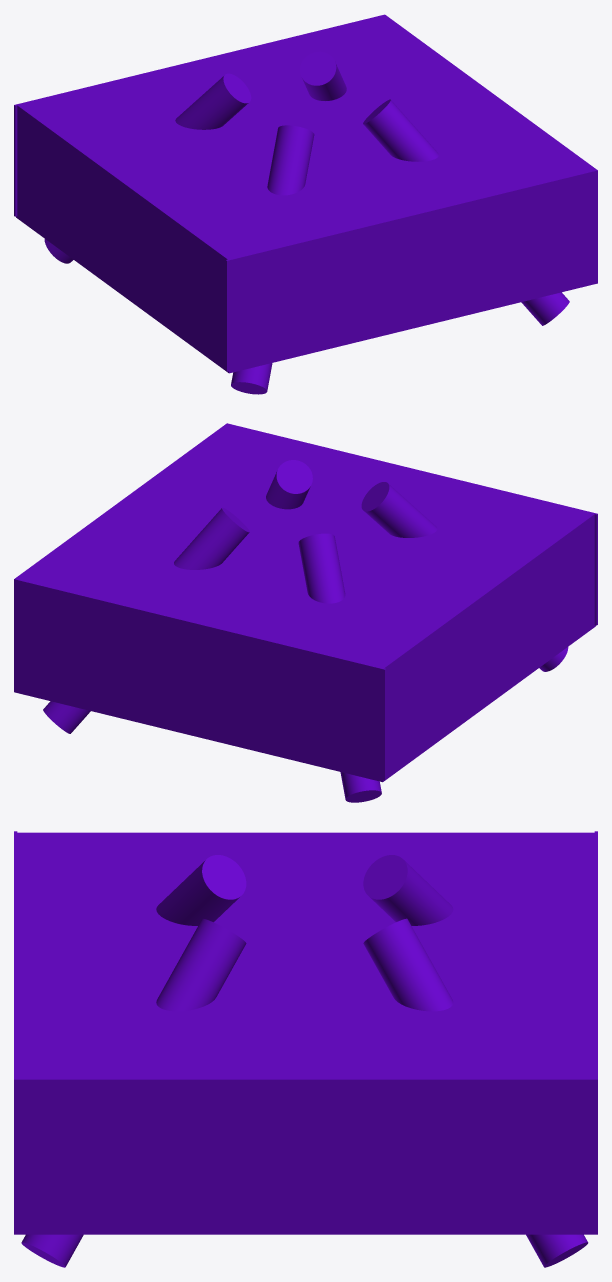
File: expbfa_bfa3.gltf
3 views of the same model, one above another, from view 1: azimuth 30°, elevation 25°; view 2: azimuth 150°, elevation 25°; view 3: azimuth 270°, elevation 25° (orthographic). The views are drawn at different scales.
Parts seen in each view (by area): view 1: Cylinder.002; view 2: Cylinder.002; view 3: Cylinder.002.
Boxes of the visible parts, x1,y1,x2,y2 form: Cylinder.002: (14, 14, 597, 394); Cylinder.002: (14, 423, 597, 802); Cylinder.002: (14, 831, 597, 1267).
Size of the model in its own units: 91.4 by 48.98 by 90.89.
